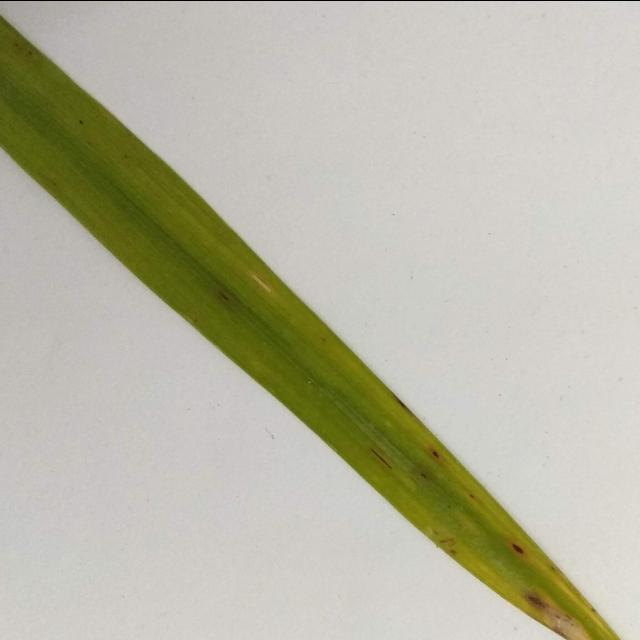Brown spot: (349, 426, 405, 469), (562, 614, 640, 640), (198, 267, 234, 311), (517, 586, 557, 608), (503, 537, 538, 561), (426, 442, 444, 460)
